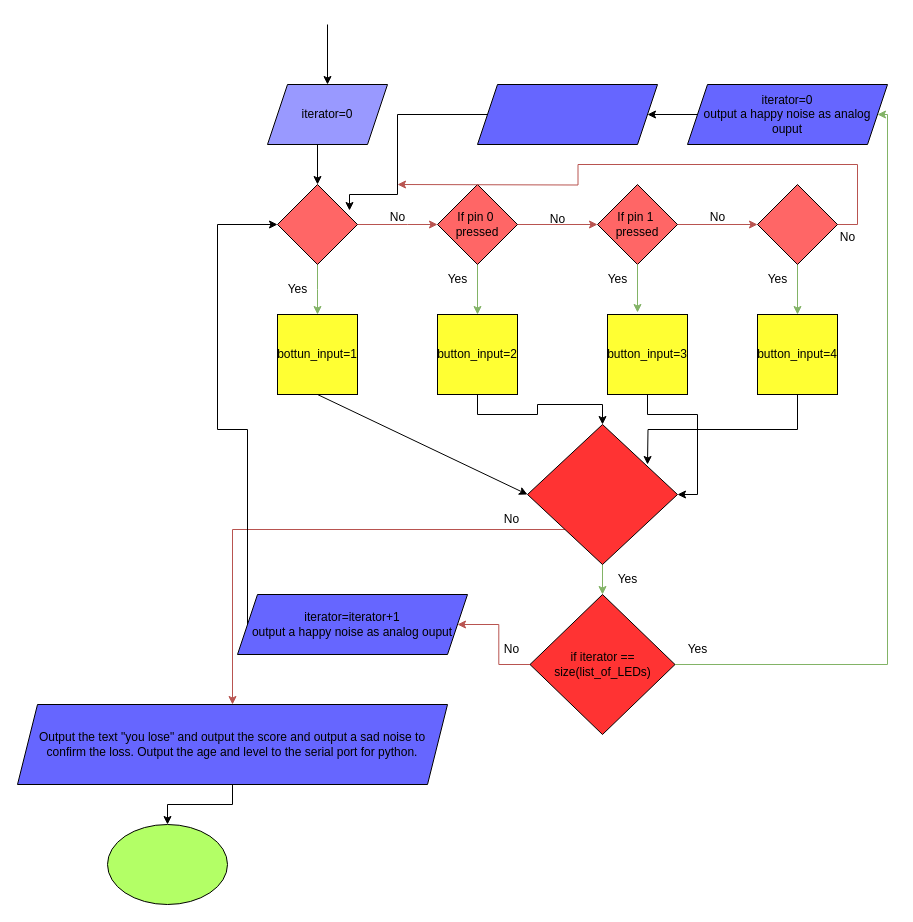
Some shapes in this 913 by 922 pixel diagram are drawn without their labels. Here are the shapes that lost their labels. From the top down, the centre of each, then its label:
(x=567, y=114): output the images form the list_of_LEDs
(x=317, y=224): If button B pressed
(x=797, y=224): If pin 2 pressed
(x=602, y=494): if button_input== list_of_LEDs[iterator]
(x=167, y=864): End
